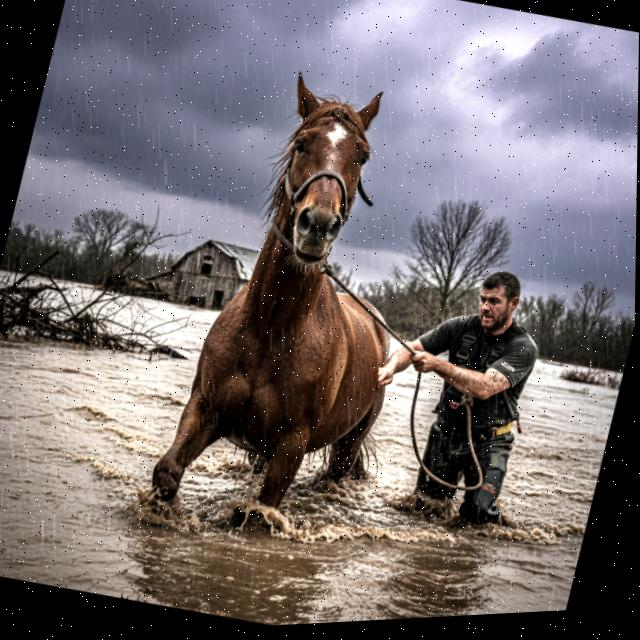civilian: (347, 225, 584, 560)
horse: (131, 33, 468, 567)
